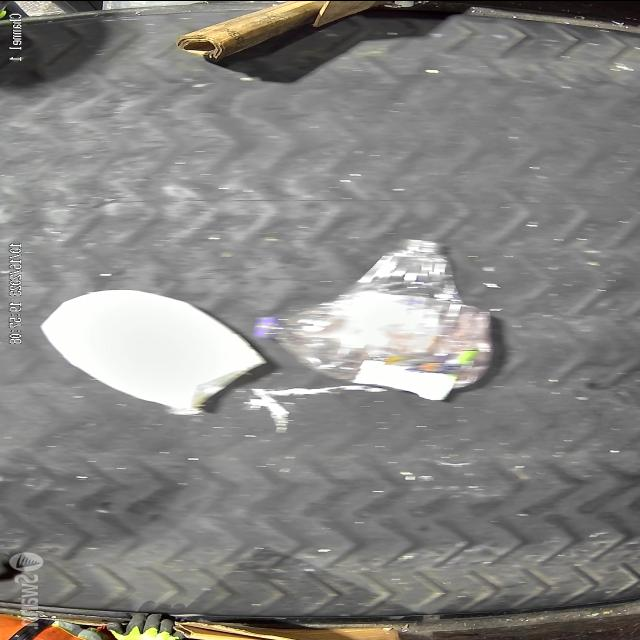milk_jug: (36, 286, 266, 414)
plastic_bottle: (251, 291, 507, 401), (346, 234, 462, 303)
